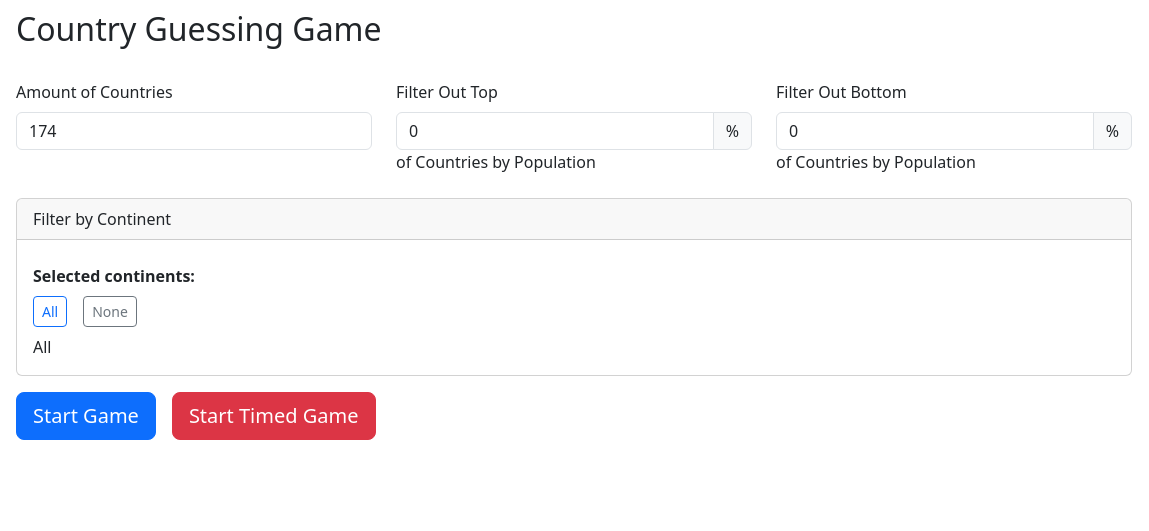
Game Component › shows error for invalid top filter percentage
The width and height of the screenshot is (1149, 531).
Replace the text in the number field labelled "Filter Out Top" with "101" at [555, 131], box [396, 112, 714, 150]
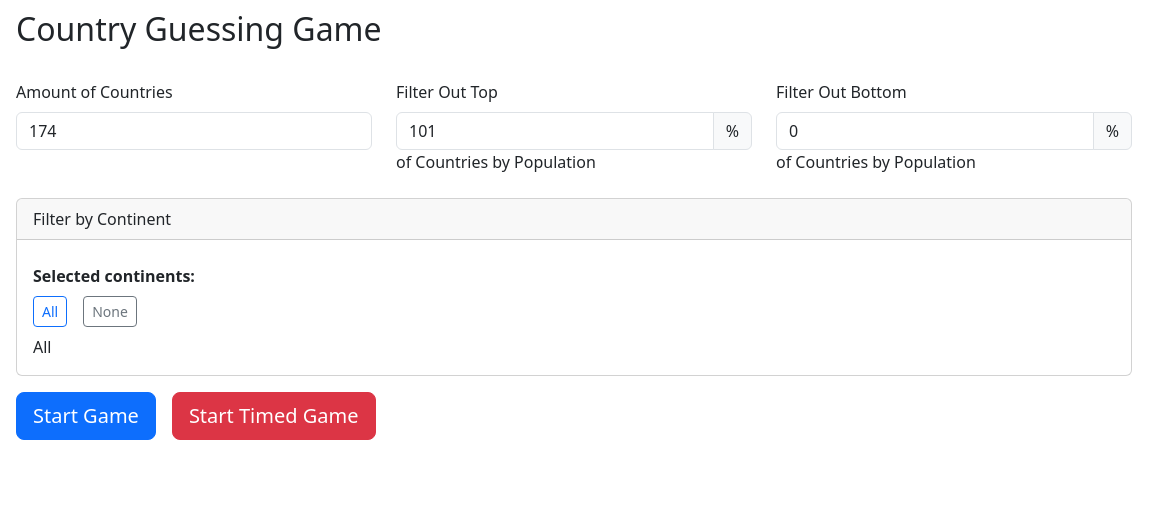
Click the button "Start Game".
click(86, 416)  # box [16, 392, 156, 440]
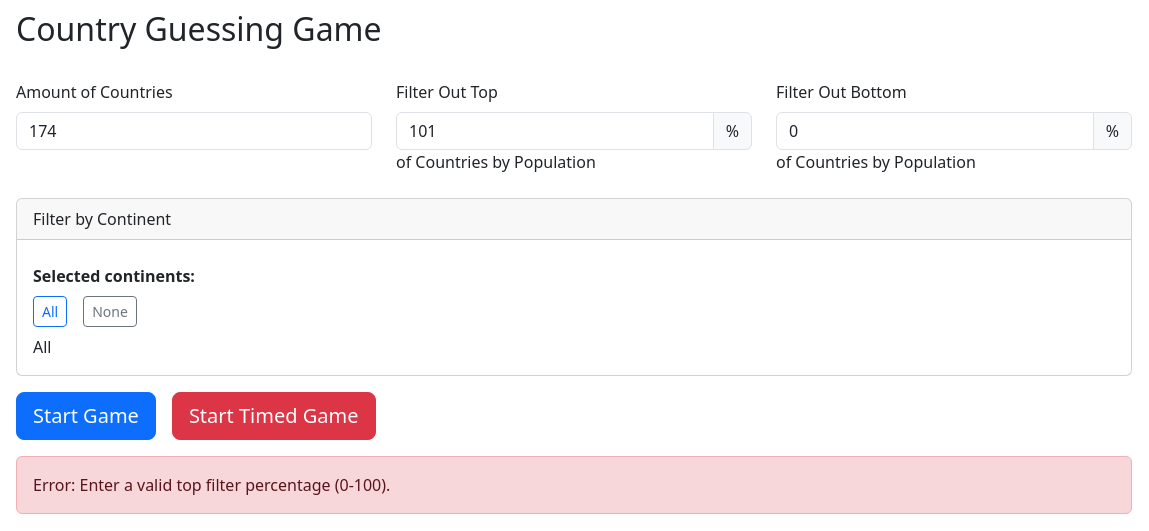
Check: the text "Error: Enter a valid top filter percentage (0-100)." is shown, box [16, 456, 1132, 514]
